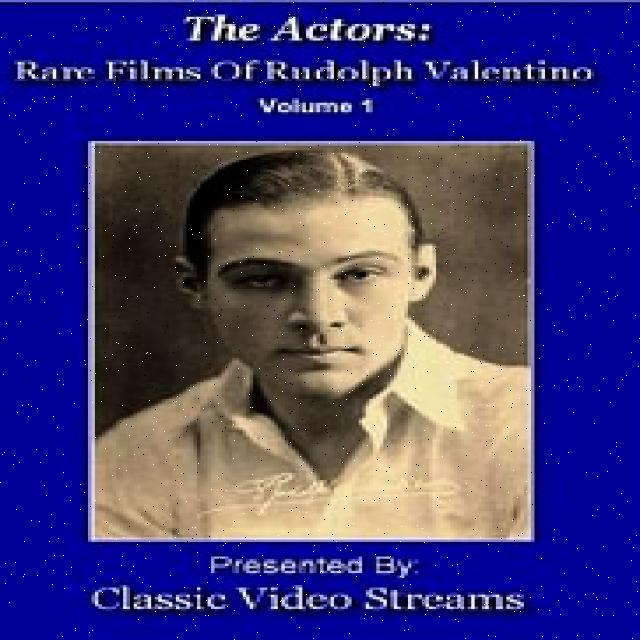movie-judul: (14, 0, 617, 127)
picture: (106, 144, 539, 537)
